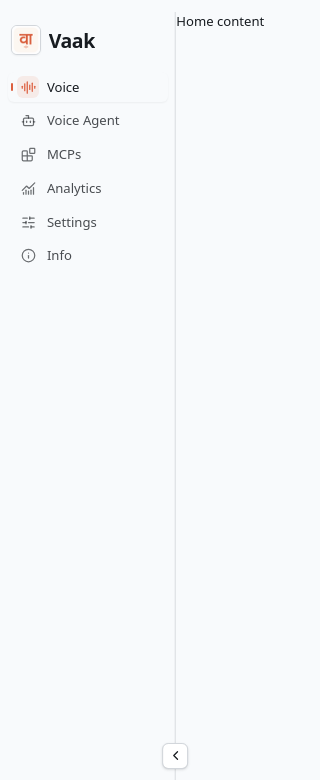
Scenario: AppLayout › opens the voice agent destination from the sidebar
This screenshot has width=320, height=780.
Click the button "Voice Agent" at point(88, 121), box [8,106,168,136]
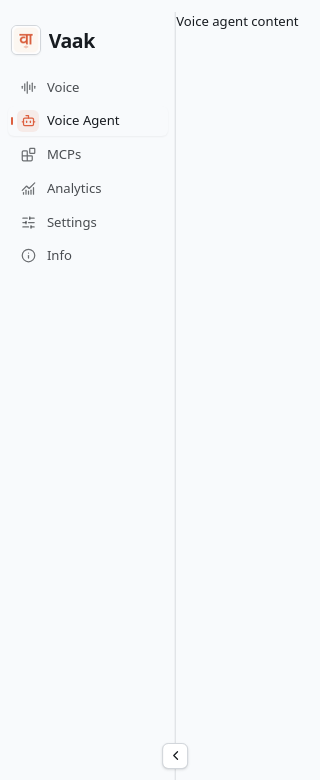
Result: the text "Voice agent content" is shown at [176,12,299,30]
